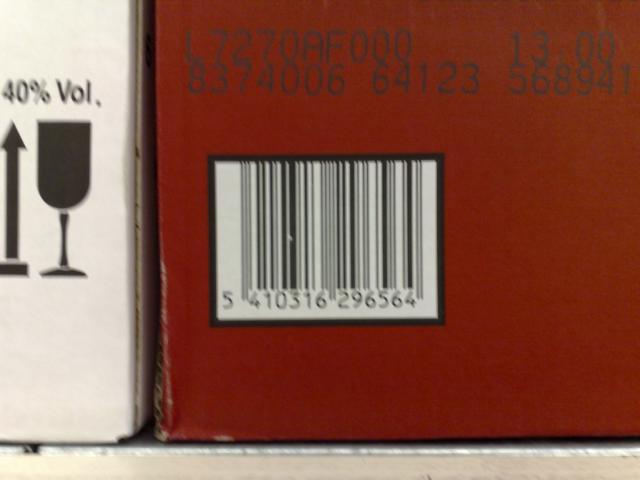Barcode: (216, 159, 437, 319)
